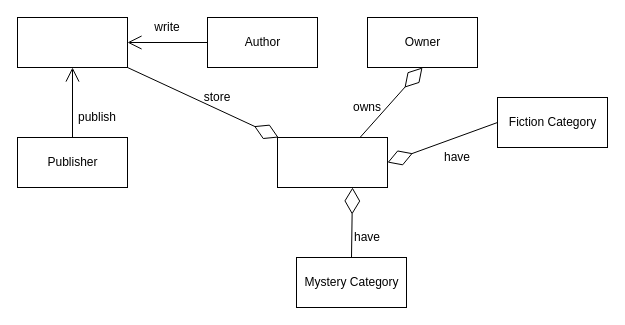
The diagram is 625 pixels wide and 325 high, and some of its shapes have lost their labels. Here are the shapes that lost their labels. From the top down, the centre of each, then its label:
the point at 72,42: Book
the point at 332,162: Library
